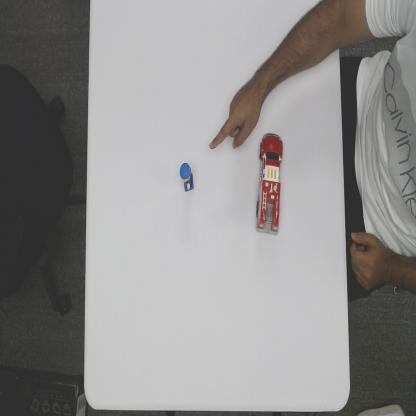Arm: (257, 2, 335, 99)
Firetruck: (256, 132, 284, 237)
Hand: (208, 86, 261, 151)
